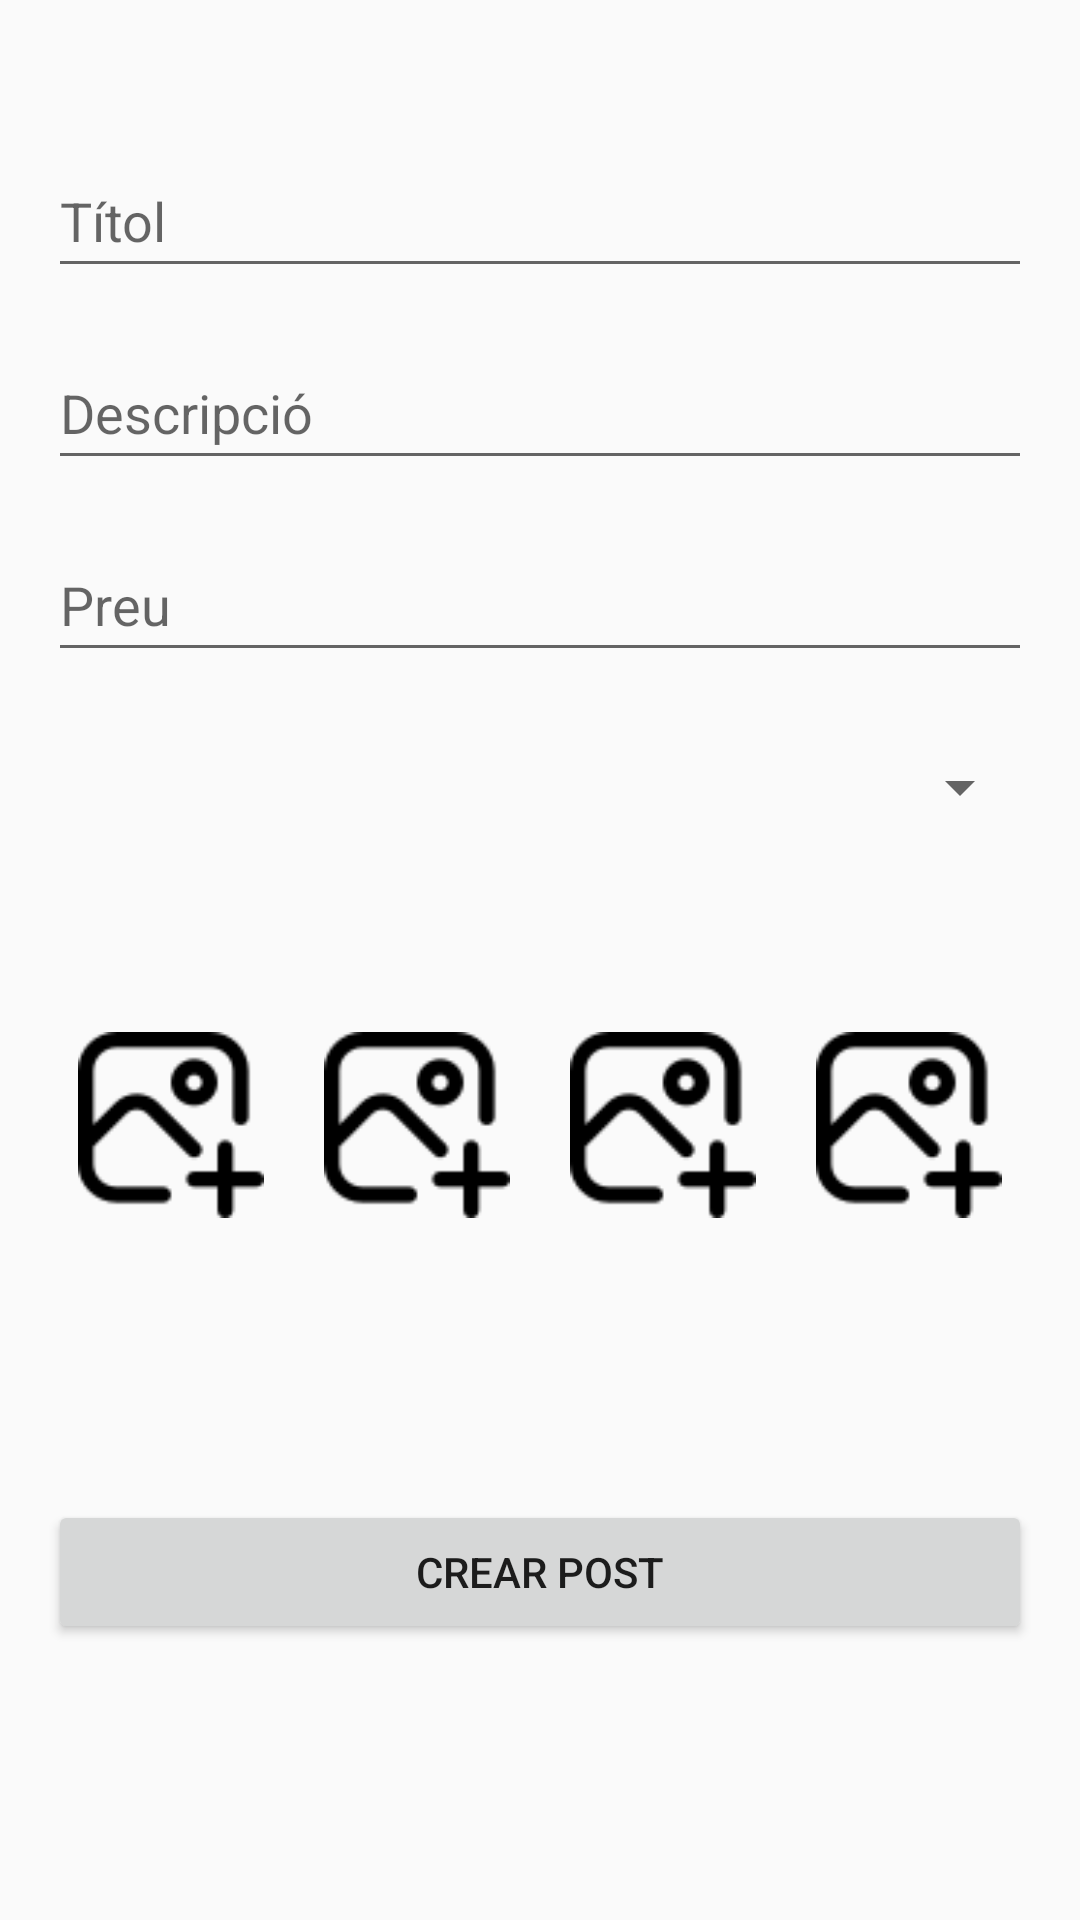

Named icons in this screenshot (1080px×1920px) and their bounding boxes, (x1, y1, x2, y2):
add: (78, 1032, 264, 1218), (324, 1032, 510, 1218), (570, 1032, 756, 1218), (816, 1032, 1002, 1218)
